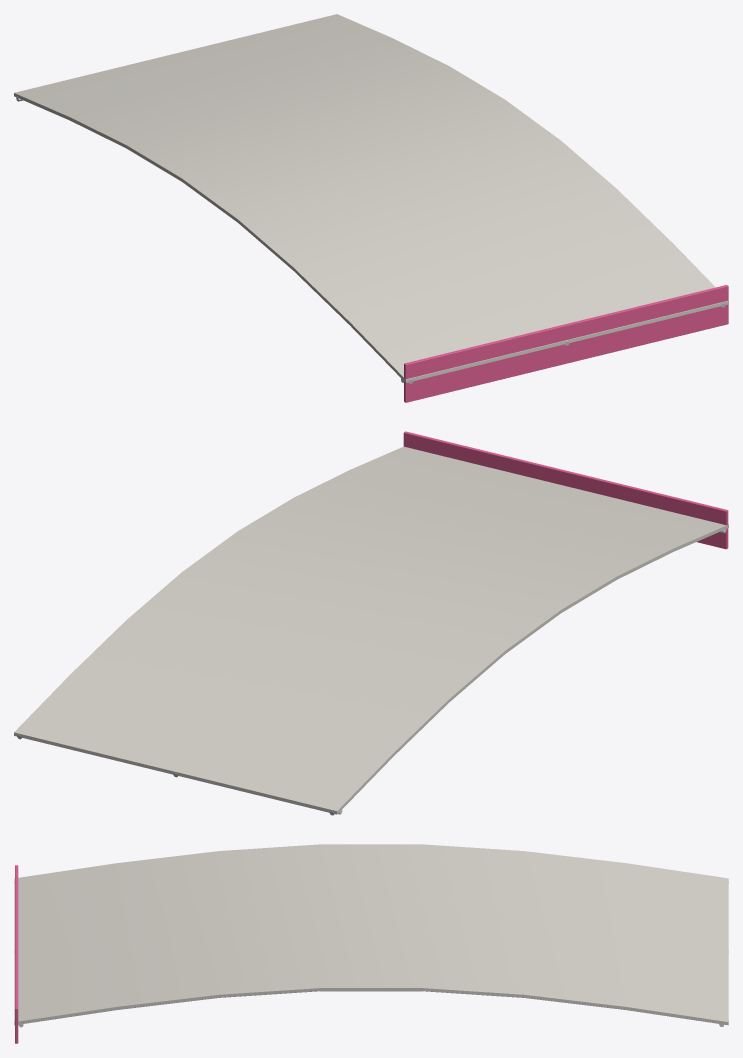
Rendered from live-music-venue-and-festival-stage-stage-roof-canopy--543b5fb3.glb.
3 views of the same model, one above another, from view 1: azimuth 30°, elevation 25°; view 2: azimuth 150°, elevation 25°; view 3: azimuth 270°, elevation 25° (orthographic). The views are drawn at different scales.
Visible parts, largest first — view 1: stage-roof-canopy-section; view 2: stage-roof-canopy-section; view 3: stage-roof-canopy-section.
Boxes of the visible parts, left/top/right/bottom form: stage-roof-canopy-section: left=14, top=14, right=728, bottom=402; stage-roof-canopy-section: left=14, top=431, right=728, bottom=815; stage-roof-canopy-section: left=14, top=844, right=728, bottom=1043.
Size of the model in its own units: 3 by 0.5414 by 6.31.
